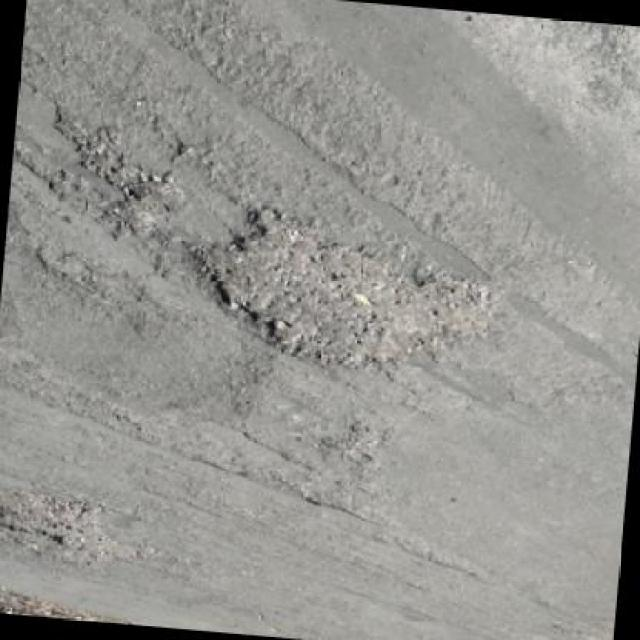pothole1: (175, 195, 518, 398), (0, 486, 171, 582), (98, 169, 196, 246), (314, 419, 392, 468)
